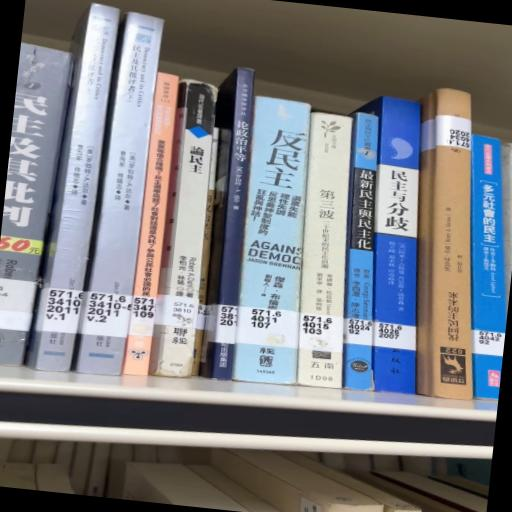book: (26, 5, 121, 372), (73, 13, 164, 376), (233, 97, 312, 386), (151, 80, 218, 378), (355, 97, 421, 394), (298, 114, 353, 389), (471, 136, 508, 400)
reverse: (417, 90, 474, 400)
